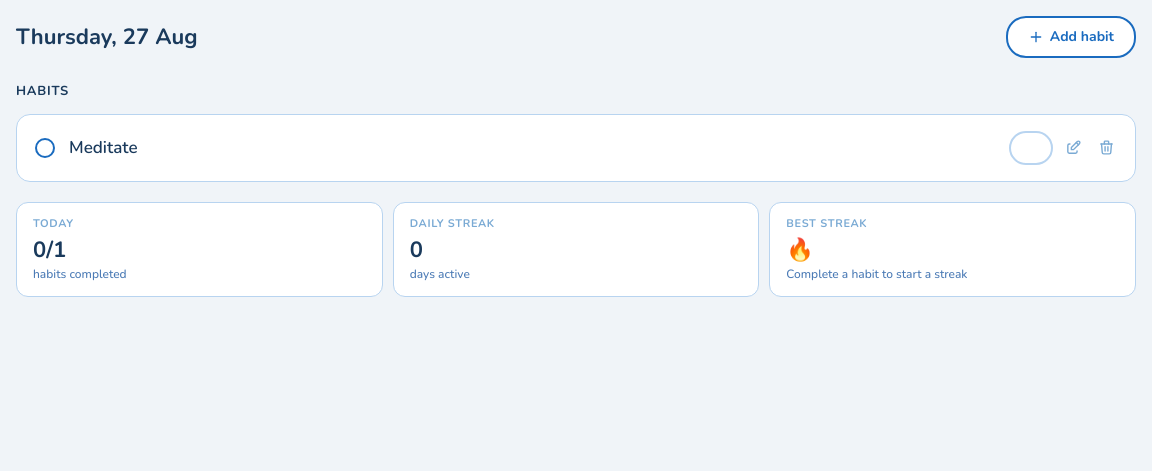
Test: HabitsSection component › when the user clicks 'Add habit' › then opens the form and disables the button
Click the button "Add habit" at [1071, 37], box left=1006, top=16, right=1136, bottom=58
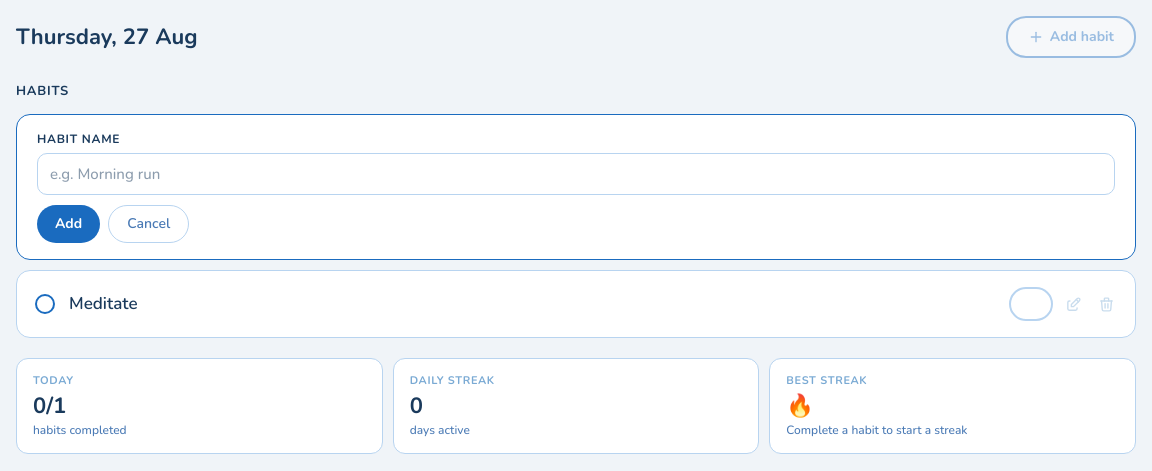
Now the field labelled "Habit name" is shown, box left=37, top=152, right=1115, bottom=195
Now the button "Add habit" is disabled, box left=1006, top=16, right=1136, bottom=58
